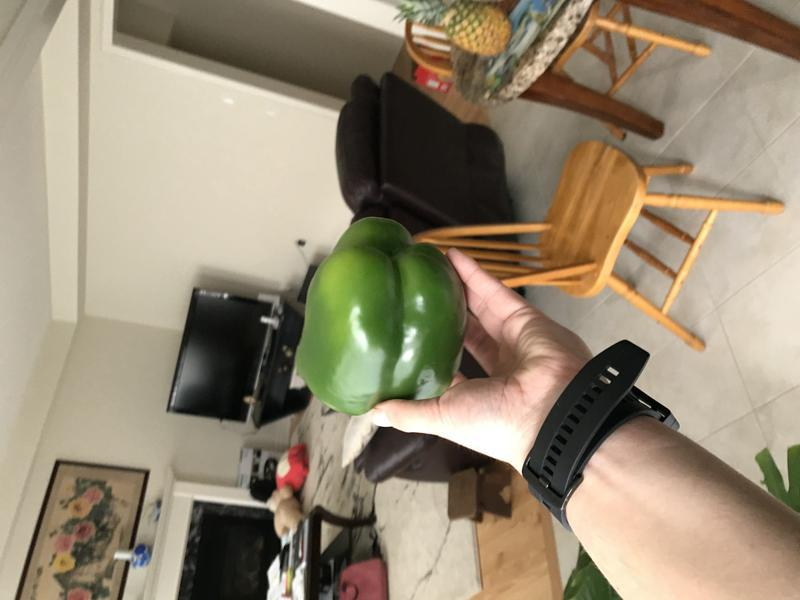green_pepper: (296, 208, 480, 421)
